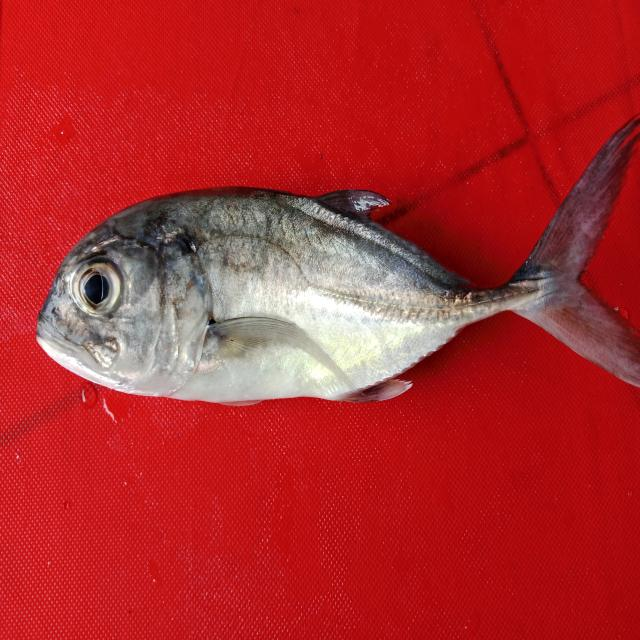ikan: (35, 113, 639, 405)
